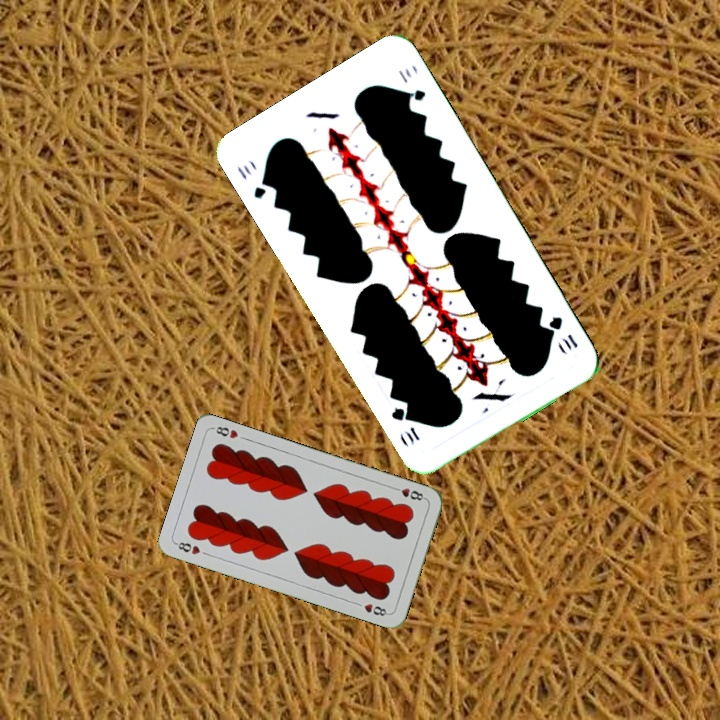G10: (232, 160, 273, 202), (544, 312, 581, 354)
H8: (389, 483, 428, 503), (172, 538, 203, 557)
